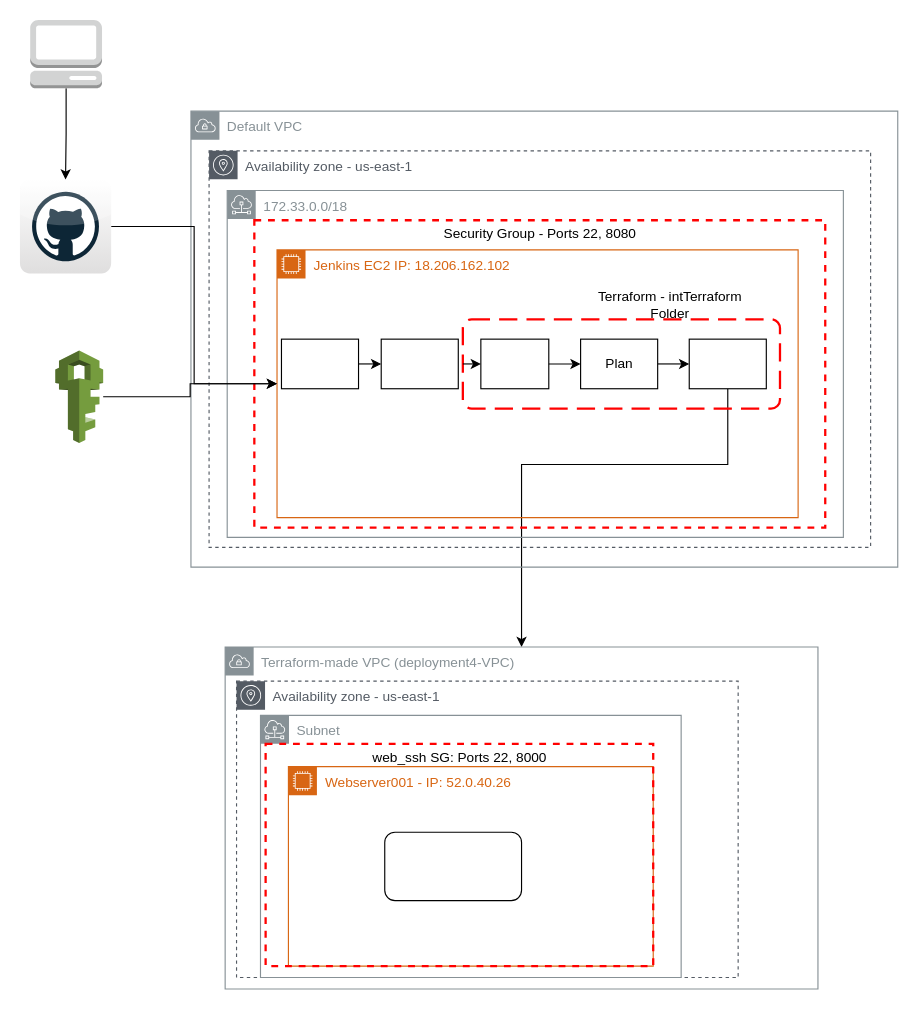
Image size: 918x1009. Some labels were removed from this diagram. The shapes that lost their labels are listed below. From the top down, each one's centre as x and y in pixels, then its label:
At [319,363]: "Build".
At [419,363]: "Test".
At [514,363]: "Init".
At [727,363]: "Apply".
At [453,866]: "Flask App Guincorn".
